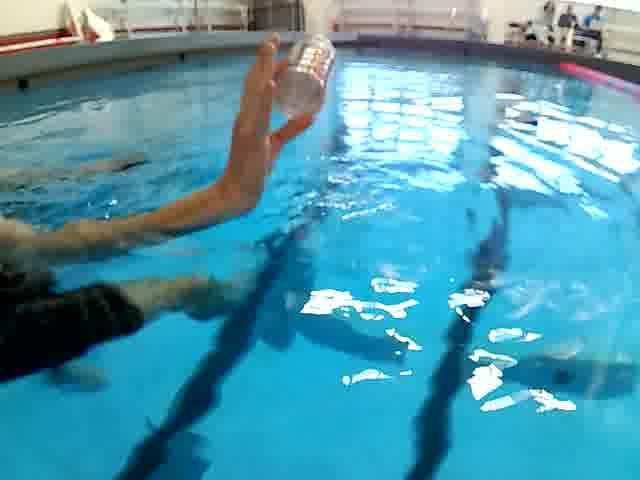Bottle: (270, 27, 342, 127)
